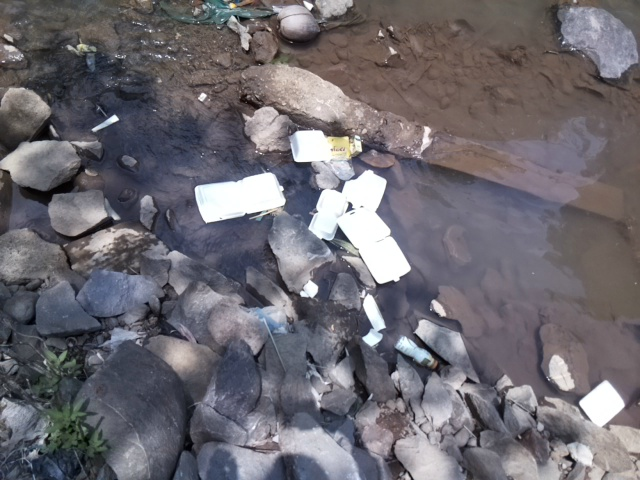Sampah_Botol_Plastik: (394, 332, 439, 370)
Sampah_Styrofoam: (309, 169, 414, 284), (191, 170, 288, 226), (577, 376, 629, 430), (288, 124, 336, 165), (361, 294, 387, 347)
